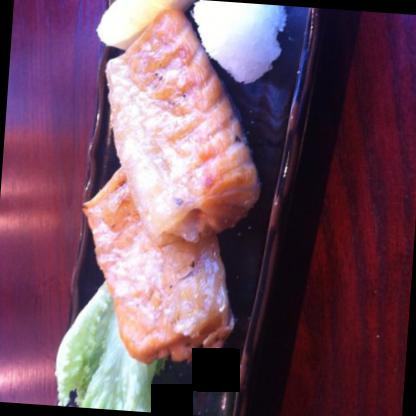salmon: (96, 13, 274, 246), (74, 159, 247, 374)
